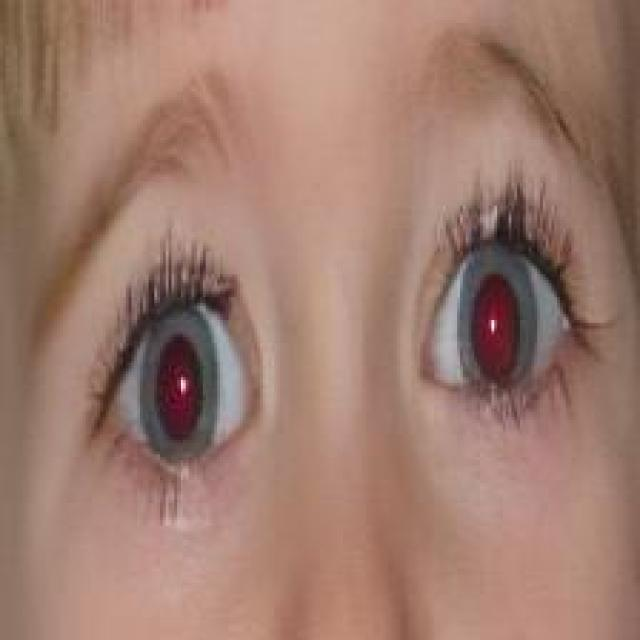reflexo-normal: (415, 236, 600, 414), (92, 294, 257, 476)
